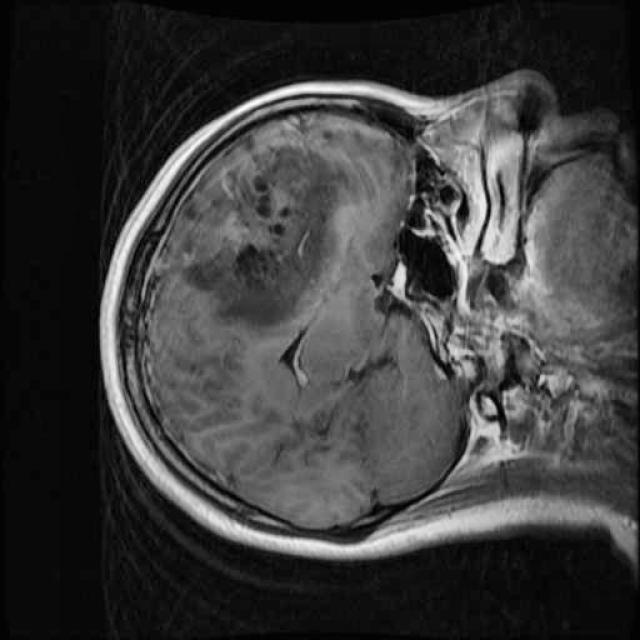Tumor: (157, 128, 358, 340)
